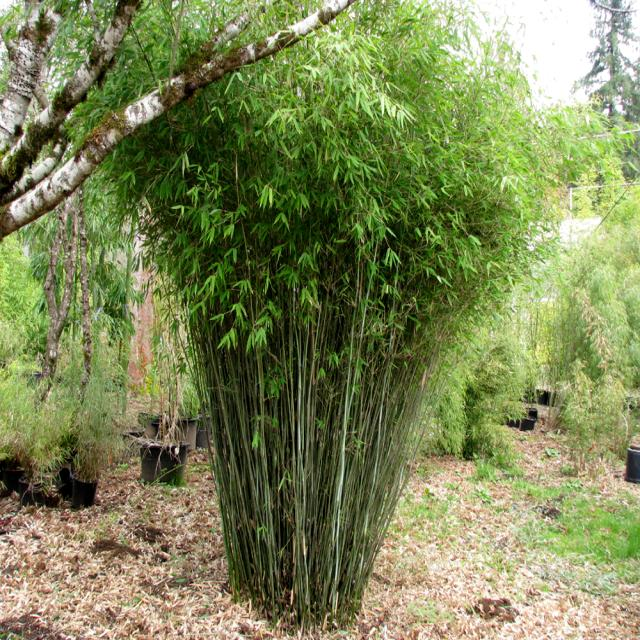Clumping: (156, 0, 495, 640)
